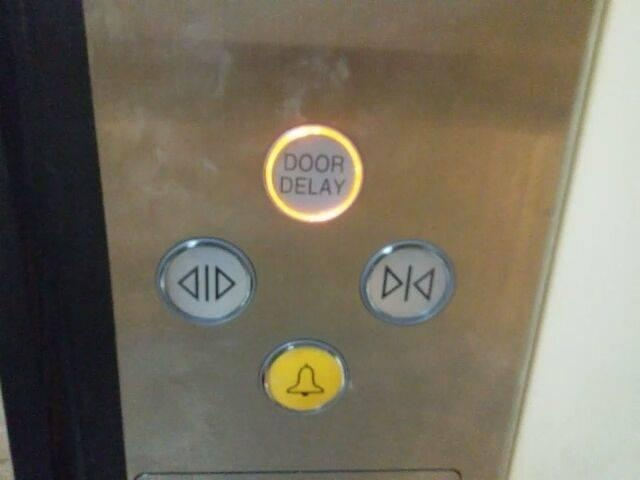alarm: (258, 337, 352, 414)
close: (359, 241, 454, 329)
open: (154, 235, 259, 325)
text_delay: (261, 123, 365, 225)
